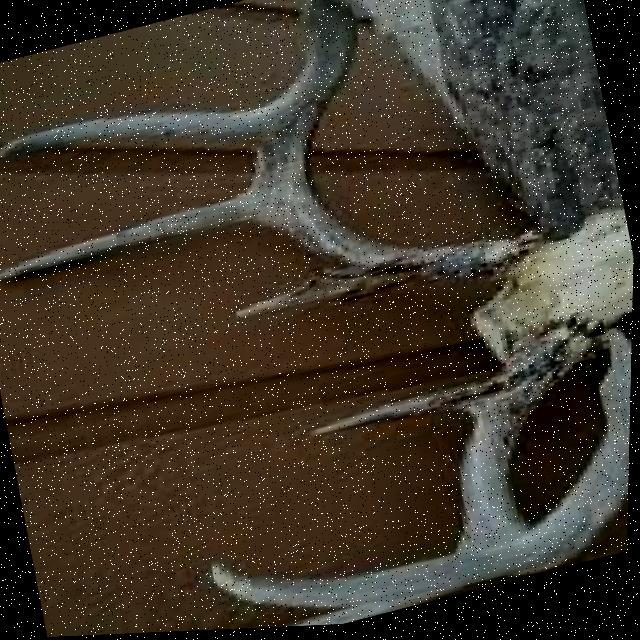L-F: (461, 329, 634, 579)
L-G1: (306, 379, 493, 439)
L-G3: (211, 537, 555, 609)
R-F: (251, 0, 546, 283)
R-G1: (234, 261, 409, 322)
R-G2: (0, 188, 259, 280)
R-G3: (0, 105, 268, 160)
